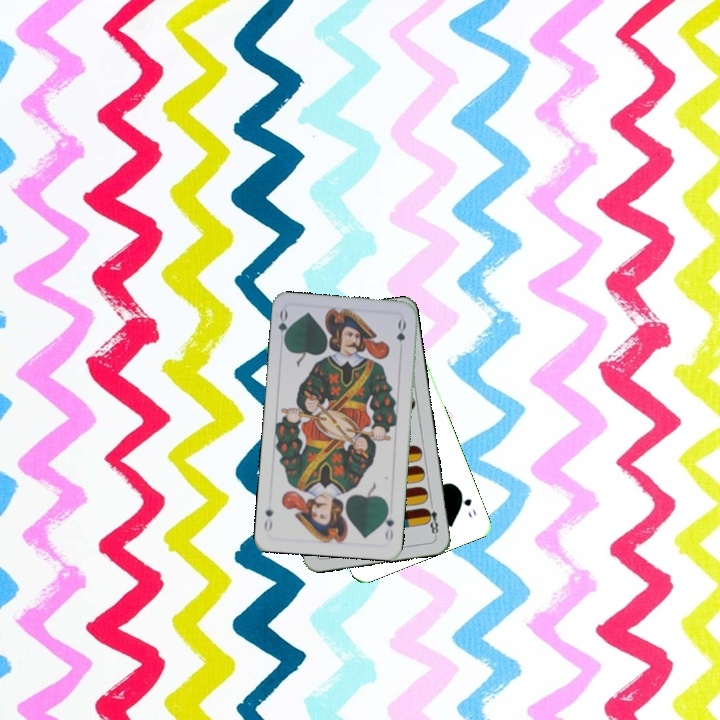E8: (421, 498, 441, 539)
GO: (455, 485, 479, 521), (274, 306, 293, 347), (380, 503, 397, 543)
